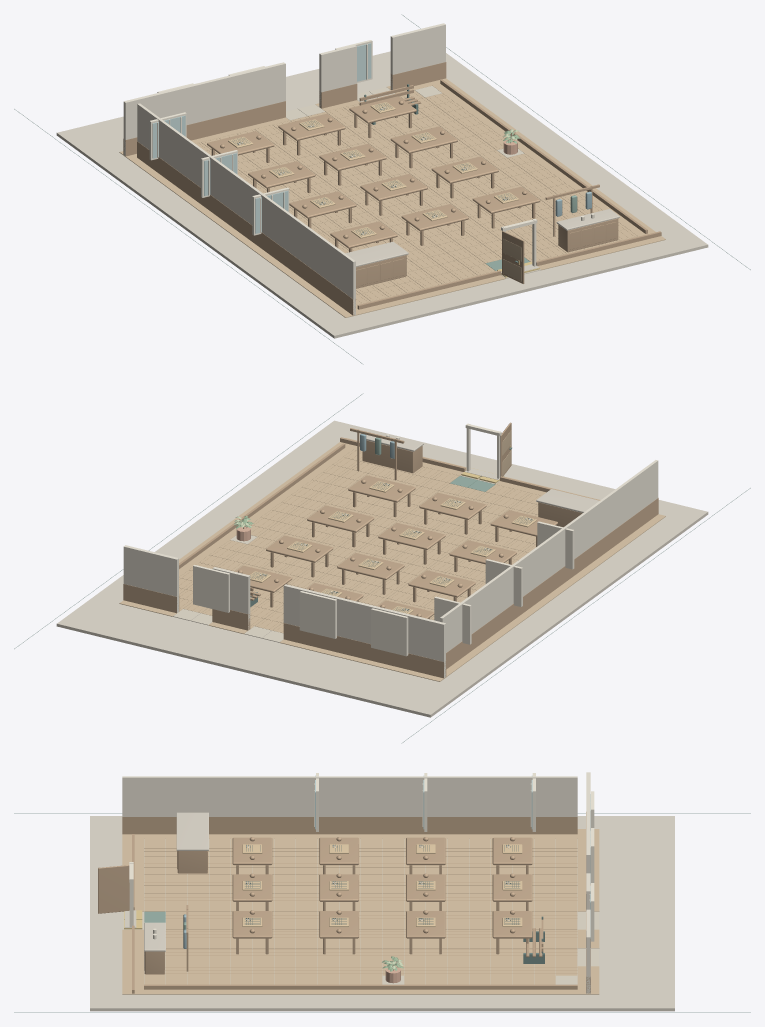
Rendered from room.glb.
3 renders of one model, top to bottom at view 1: azimuth 30°, elevation 25°; view 2: azimuth 150°, elevation 25°; view 3: azimuth 270°, elevation 25°, orthographic. The views are drawn at different scales.
Visible parts, largest first — view 1: wall foundation, wainscot, building slab, cutaway wall, goban, window frame, cold glass, ground, grid, surrounding corridor seam; view 2: building slab, wall foundation, wainscot, cutaway wall, window frame, goban, ground, grid, surrounding corridor seam; view 3: wall foundation, building slab, wainscot, cutaway wall, goban, window frame, surrounding corridor seam, ground, grid.
Part boxes in pixels (bbox=[...]): wall foundation: bbox=[119, 78, 665, 317]; wainscot: bbox=[123, 62, 661, 315]; building slab: bbox=[56, 51, 708, 338]; cutaway wall: bbox=[123, 23, 445, 315]; goban: bbox=[228, 102, 518, 238]; window frame: bbox=[149, 40, 594, 266]; cold glass: bbox=[152, 43, 371, 233]; ground: bbox=[286, 86, 540, 278]; grid: bbox=[230, 103, 516, 236]; surrounding corridor seam: bbox=[14, 14, 750, 364]; building slab: bbox=[56, 420, 708, 717]; wall foundation: bbox=[119, 430, 665, 681]; wainscot: bbox=[123, 422, 658, 678]; cutaway wall: bbox=[123, 460, 658, 677]; window frame: bbox=[193, 423, 574, 656]; goban: bbox=[250, 481, 536, 613]; ground: bbox=[173, 475, 504, 642]; grid: bbox=[250, 482, 534, 613]; surrounding corridor seam: bbox=[14, 393, 750, 743]; wall foundation: bbox=[122, 829, 599, 994]; building slab: bbox=[90, 812, 674, 1011]; wainscot: bbox=[98, 812, 590, 993]; cutaway wall: bbox=[122, 772, 590, 993]; goban: bbox=[242, 844, 522, 927]; window frame: bbox=[129, 773, 594, 941]; surrounding corridor seam: bbox=[14, 813, 750, 1012]; ground: bbox=[122, 911, 598, 984]; grid: bbox=[245, 844, 519, 924].
Size of what is drawn, in the model's own units: 17.41 by 2.45 by 27.2.
